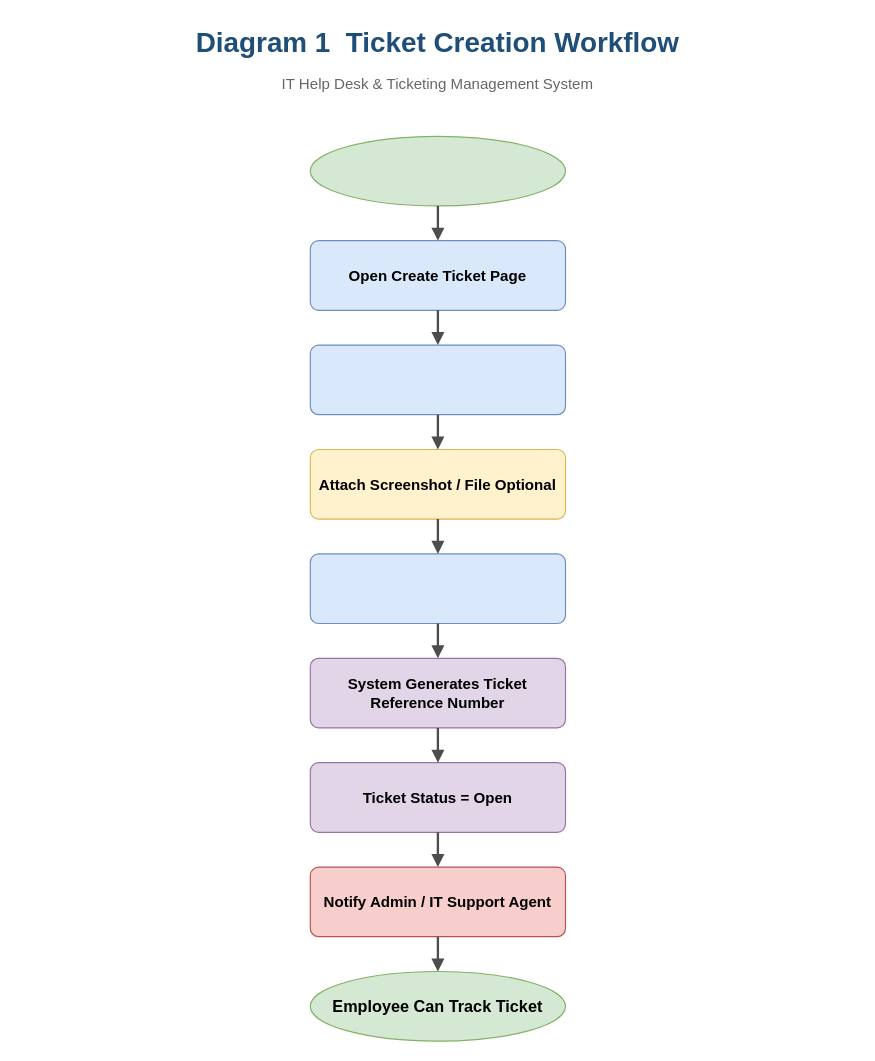
The diagram is 875 pixels wide and 1061 high, and some of its shapes have lost their labels. Here are the shapes that lost their labels. From the top down, the centre of each, then its label:
the point at 437,170: Employee Login
the point at 437,379: Enter Title, Description, Category, and Priority
the point at 437,588: Submit Ticket
